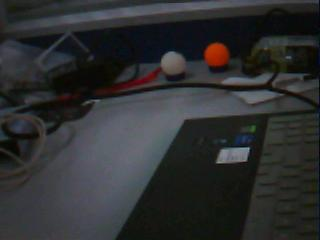oball: (205, 43, 229, 67)
